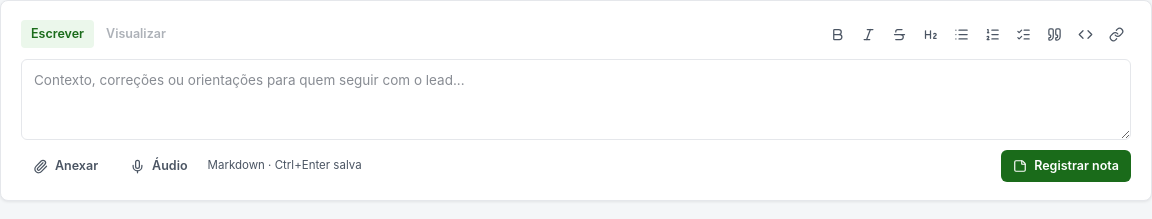
Test: NoteComposer — toolbar e atalhos › negrito envolve a seleção
The image size is (1152, 219).
Type "urgente" into the text box named "Corpo da nota" at coordinates (576, 100), box [21,59,1131,140]
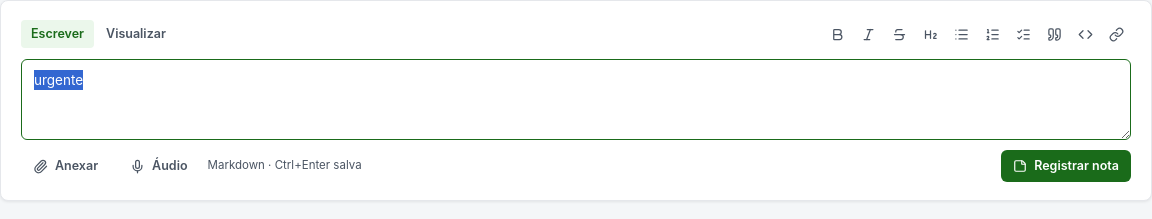
Click the button named "negrito" at coordinates (837, 34), box [822,19,852,49]
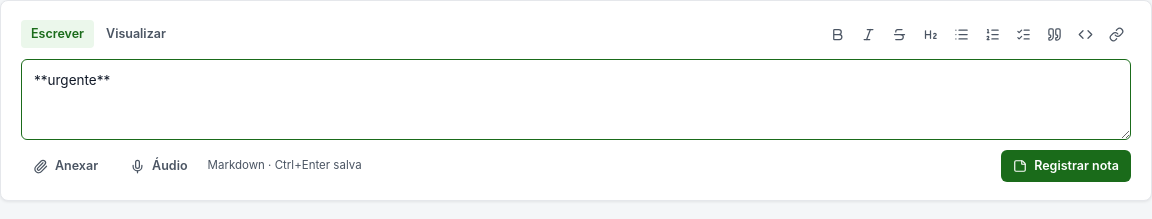
Result: the text box named "Corpo da nota" holds "**urgente**" at [21,59,1131,140]
